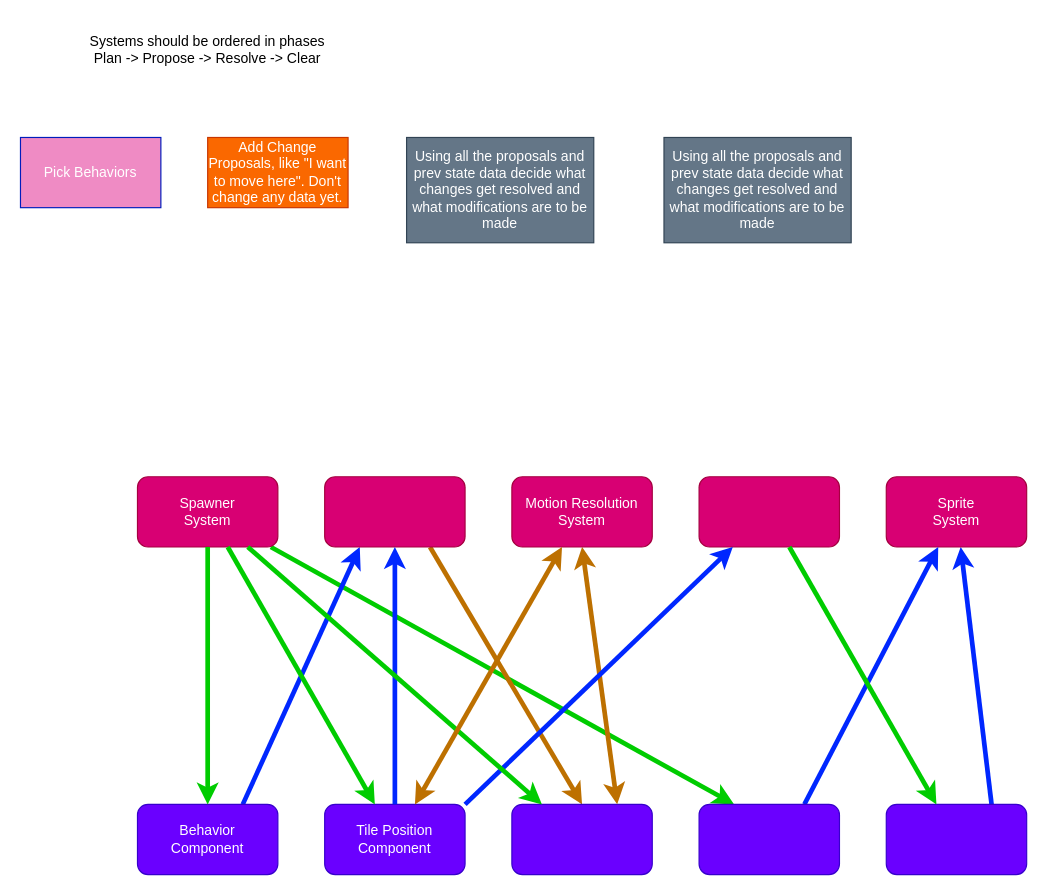
Image size: 1047x895. Some labels were removed from this diagram. The shapes that lost their labels are listed below. From the top down, each one's centre as x and y in pixels, then its label:
the point at 394,511: Behavior System
the point at 768,511: Tile to World Translation System
the point at 581,839: Force/Acceleration Component
the point at 768,839: Sprite Component
the point at 956,839: World Position Component
